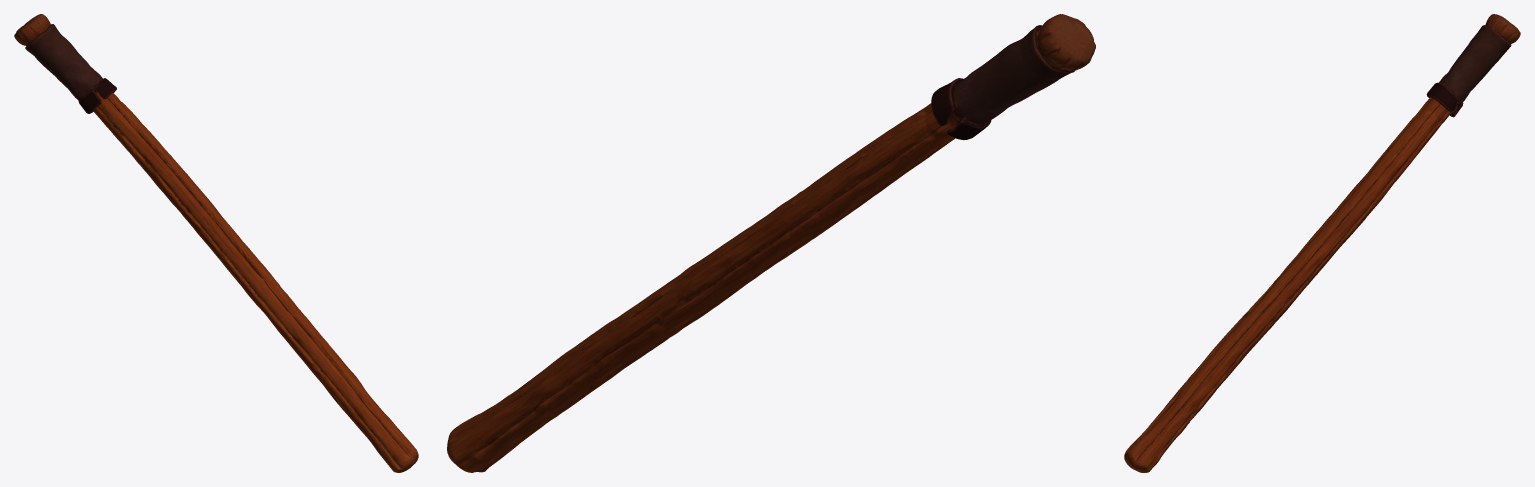
The model's file is staff-a.glb.
The picture shows the model from 3 angles, left to right: view 1: azimuth 30°, elevation 25°; view 2: azimuth 210°, elevation 25°; view 3: azimuth 270°, elevation 25°; orthographic projection. The views are drawn at different scales.
Visible parts, largest first — view 1: tripo_node_e5bf4680-f290-4606-903d-e4926b7404e0; view 2: tripo_node_e5bf4680-f290-4606-903d-e4926b7404e0; view 3: tripo_node_e5bf4680-f290-4606-903d-e4926b7404e0.
Part boxes in pixels (box(x1,y1,x2,y2)): tripo_node_e5bf4680-f290-4606-903d-e4926b7404e0: box(14, 14, 418, 472); tripo_node_e5bf4680-f290-4606-903d-e4926b7404e0: box(447, 14, 1095, 472); tripo_node_e5bf4680-f290-4606-903d-e4926b7404e0: box(1124, 14, 1520, 472).
Size of the model in its own units: 0.626 by 1 by 0.9803.
1 material, 1 textured.
